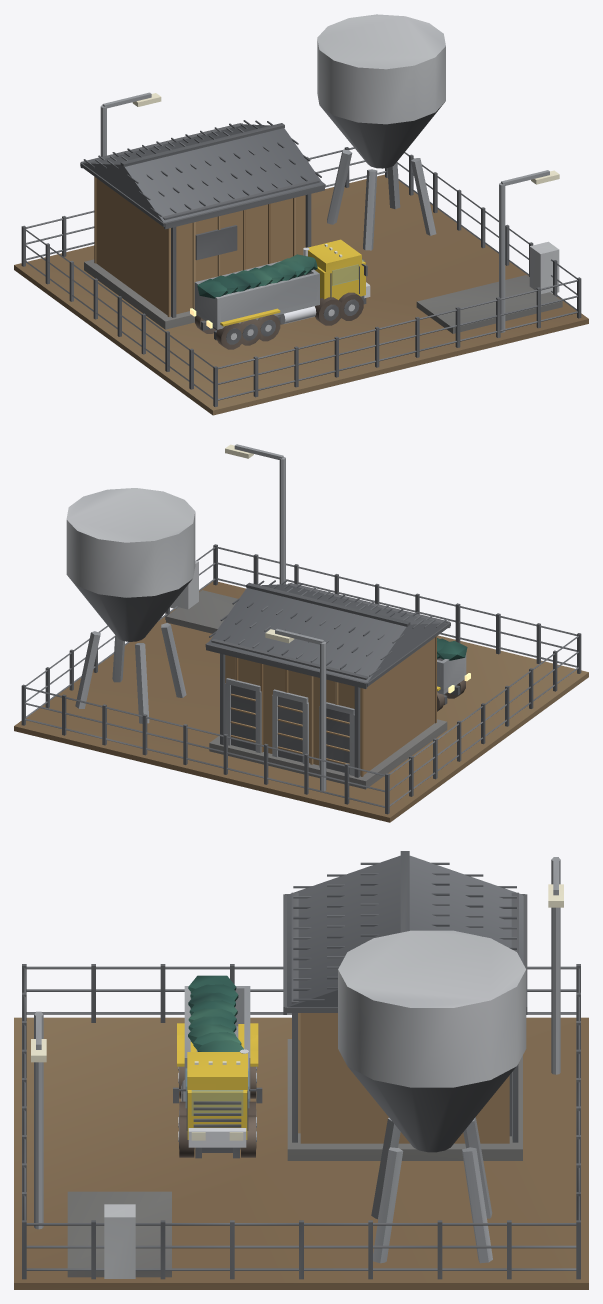
File: Haul_P1.fbx
3 renders of one model, top to bottom at view 1: azimuth 30°, elevation 25°; view 2: azimuth 150°, elevation 25°; view 3: azimuth 270°, elevation 25°, orthographic. The views are drawn at different scales.
Visible parts, largest first — view 1: Haul.Yard, Haul.Workshop, Haul.Hopper, Haul.Parked0, Haul.Fence, Haul.Weighbridge, Haul.Lamp0, Haul.Lamp1; view 2: Haul.Workshop, Haul.Yard, Haul.Hopper, Haul.Fence, Haul.Weighbridge, Haul.Parked0, Haul.Lamp1, Haul.Lamp0; view 3: Haul.Yard, Haul.Hopper, Haul.Workshop, Haul.Parked0, Haul.Fence, Haul.Weighbridge, Haul.Lamp1, Haul.Lamp0.
Part boxes in pixels (x1,y1,x2,y2): Haul.Yard: [14, 174, 588, 415]; Haul.Workshop: [80, 120, 325, 329]; Haul.Hopper: [317, 14, 445, 250]; Haul.Parked0: [190, 239, 370, 349]; Haul.Fence: [21, 147, 581, 406]; Haul.Weighbridge: [416, 241, 562, 333]; Haul.Lamp0: [499, 170, 559, 332]; Haul.Lamp1: [100, 92, 161, 156]; Haul.Workshop: [205, 579, 450, 789]; Haul.Yard: [14, 581, 588, 822]; Haul.Hopper: [66, 488, 195, 723]; Haul.Fence: [21, 544, 581, 814]; Haul.Weighbridge: [166, 560, 237, 633]; Haul.Parked0: [437, 638, 470, 711]; Haul.Lamp1: [265, 628, 326, 791]; Haul.Lamp0: [225, 444, 285, 584]; Haul.Yard: [14, 1017, 588, 1289]; Haul.Hopper: [338, 930, 526, 1263]; Haul.Workshop: [283, 851, 527, 1160]; Haul.Parked0: [173, 975, 262, 1158]; Haul.Fence: [22, 964, 580, 1279]; Haul.Weighbridge: [67, 1191, 171, 1278]; Haul.Lamp1: [548, 857, 563, 1074]; Haul.Lamp0: [31, 1011, 46, 1229].
Bounding box in the file's own units: 2410 × 1167 × 2200.
